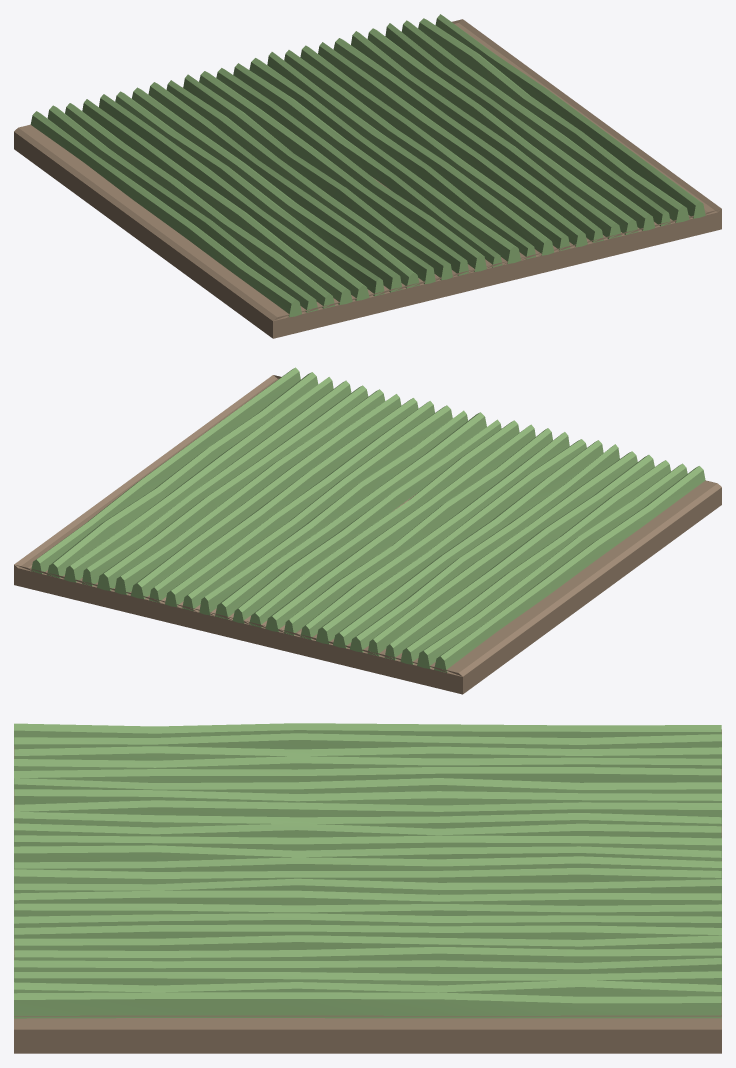
File: arable-fields-and-farm-machinery-field-tile-young-crop-95efc11d__16873.glb
3 views of the same model, one above another, from view 1: azimuth 30°, elevation 25°; view 2: azimuth 150°, elevation 25°; view 3: azimuth 270°, elevation 25° (orthographic). The views are drawn at different scales.
Visible parts, largest first — view 1: field-tile-young-crop; view 2: field-tile-young-crop; view 3: field-tile-young-crop.
Boxes of the visible parts, bbox=[...] form: field-tile-young-crop: bbox=[14, 14, 721, 338]; field-tile-young-crop: bbox=[14, 367, 721, 694]; field-tile-young-crop: bbox=[14, 723, 721, 1053].
Bounding box in the file's own units: 8 × 0.5983 × 8.
